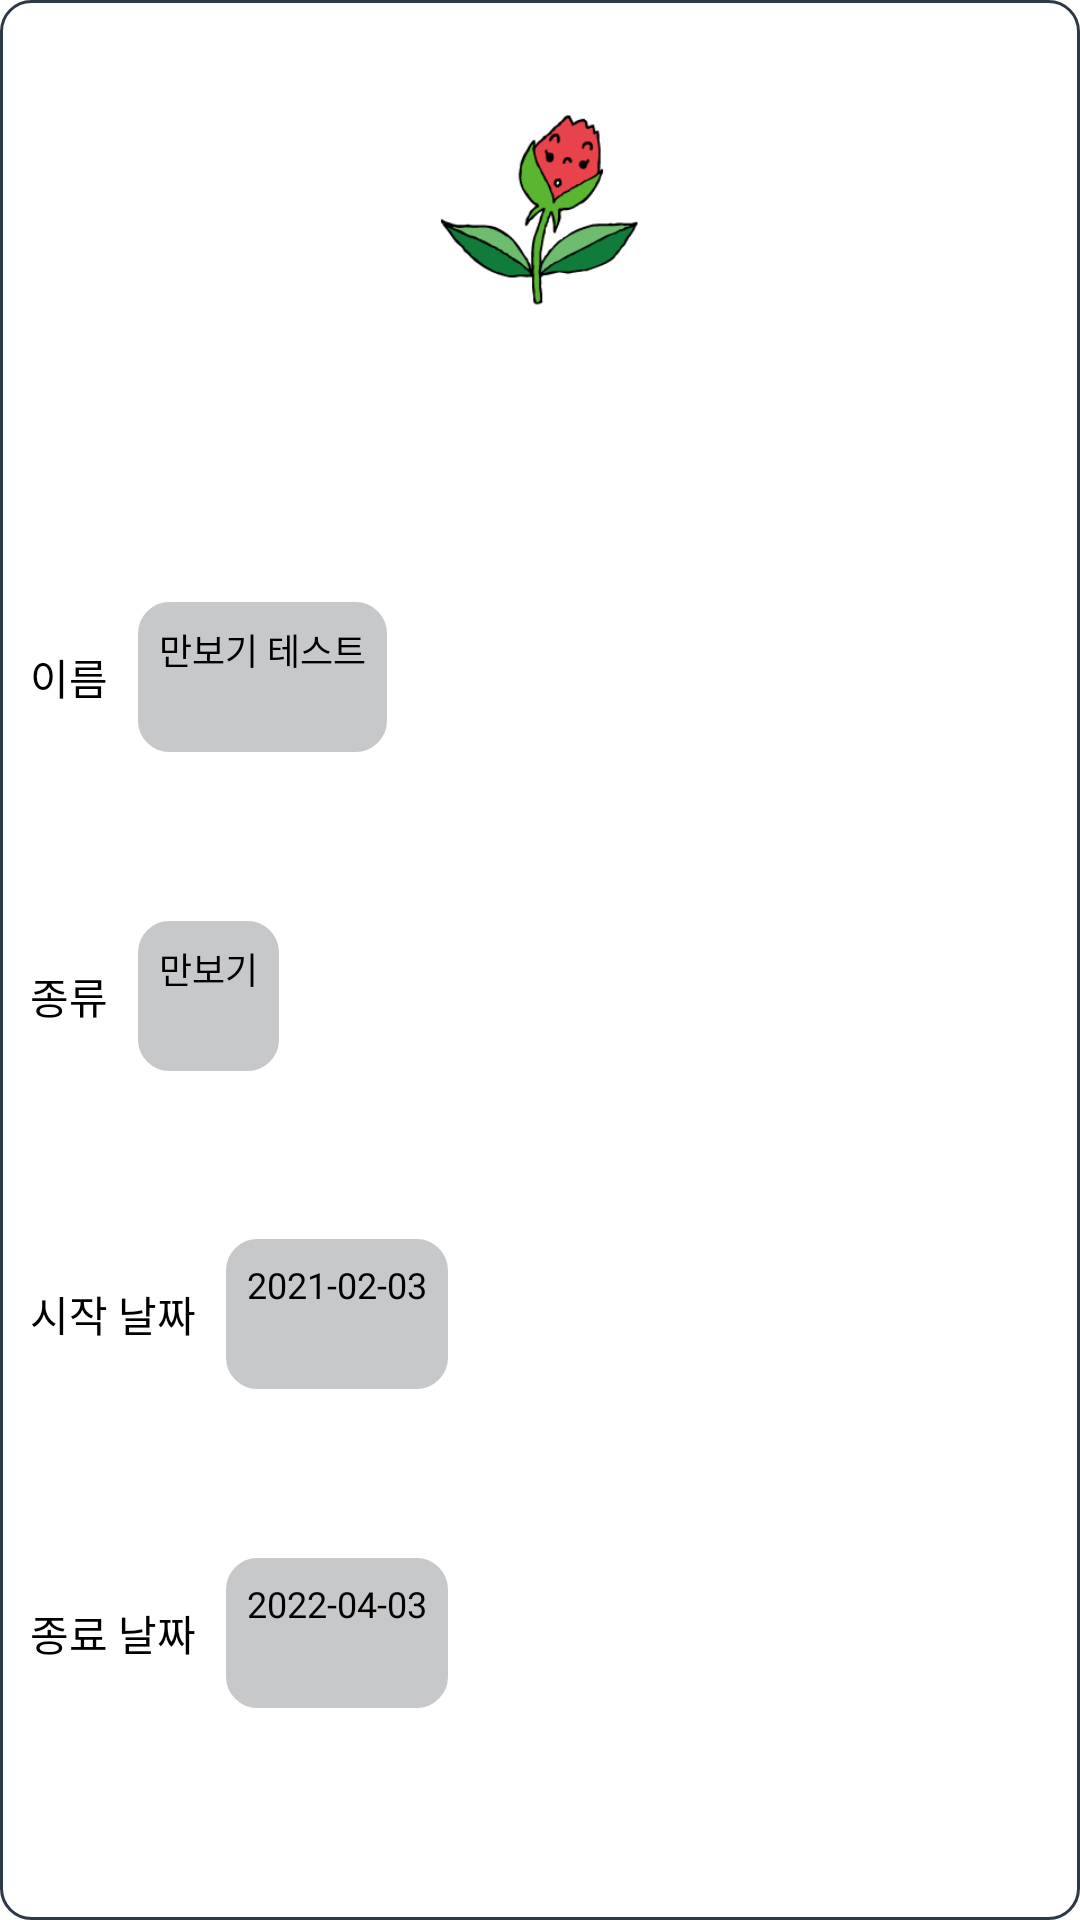

Named icons in this screenshot (1080px×1920px) and their centers, point (x, y):
plant: point (539, 210)
